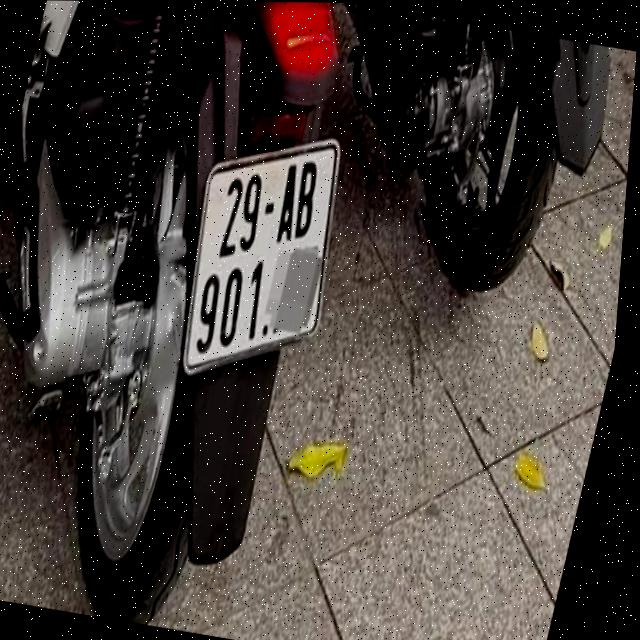motorcycle: (0, 0, 412, 638), (291, 4, 631, 325)
plate: (160, 112, 360, 391)
